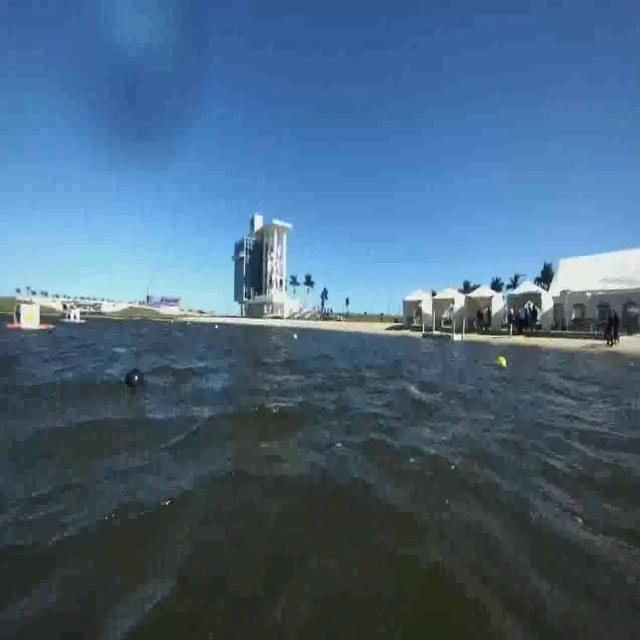black-buoy: (126, 363, 148, 401)
yellow-buoy: (496, 353, 508, 371)
